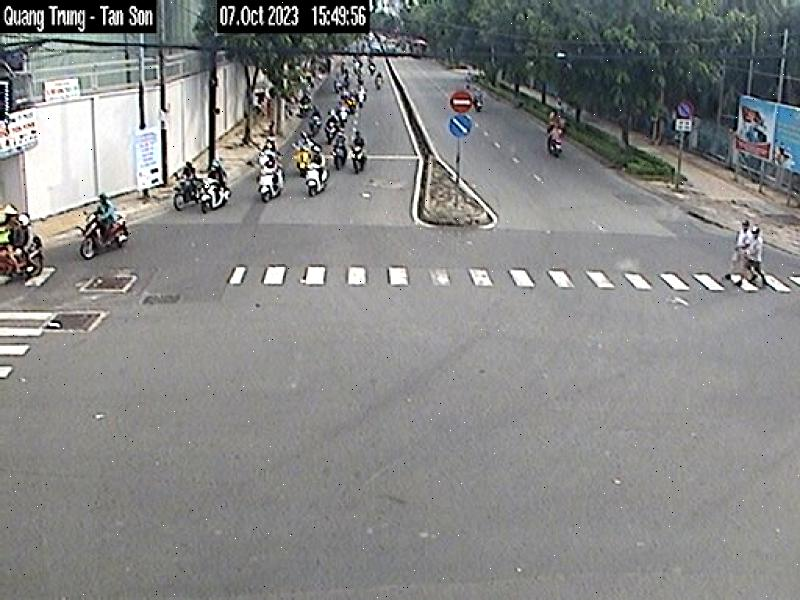motorcycle: (72, 210, 132, 264), (0, 232, 52, 278), (192, 174, 236, 218), (254, 163, 288, 207), (302, 162, 332, 200)
